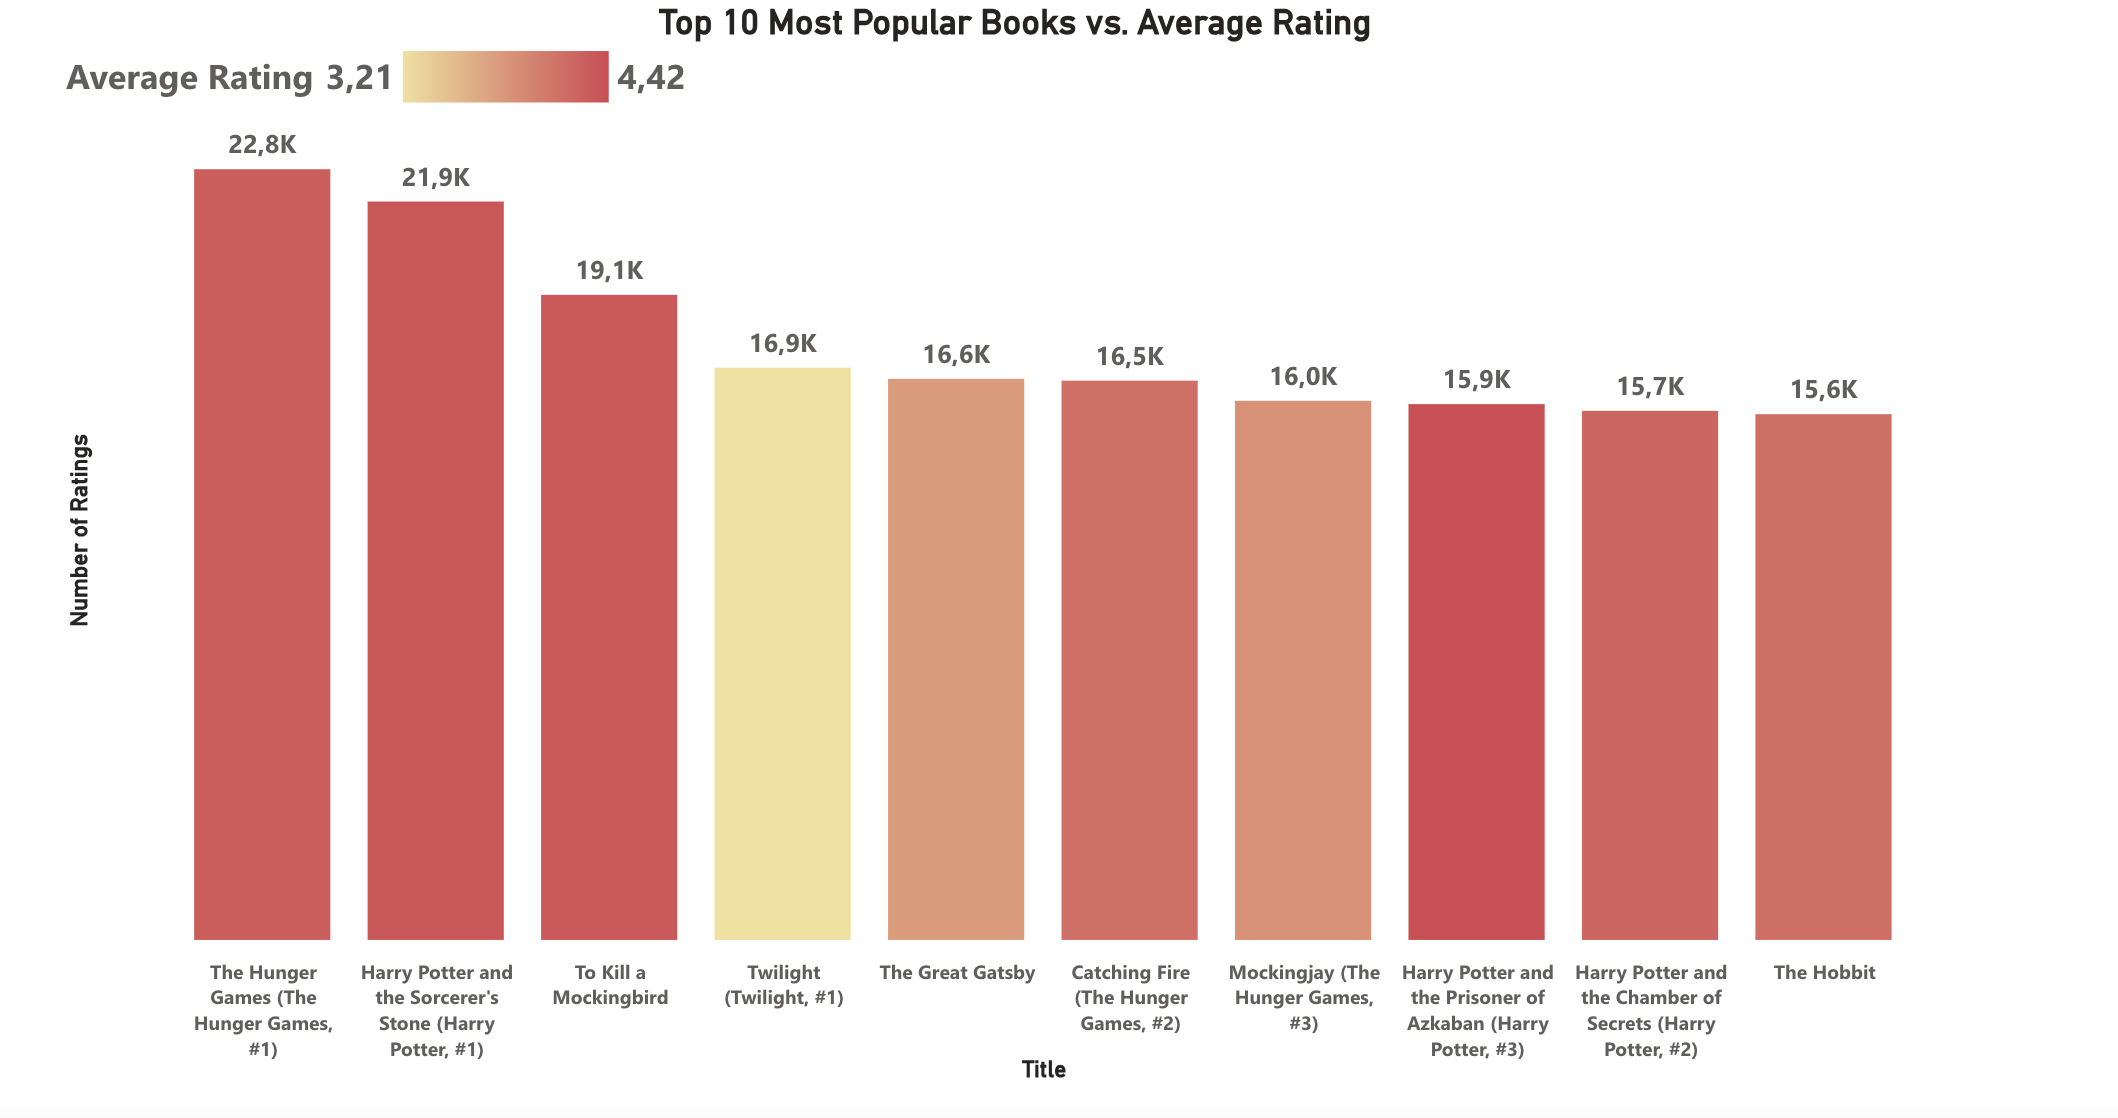

The page's visual inventory and layout, read from the dashboard file:
{"tool":"powerbi","page":{"name":"page 4","canvas":[1280,720],"ordinal":3},"visuals":[{"type":"clusteredColumnChart","title":"Top 10 Most Popular Books vs. Average Rating","fields":{"Category":["public dim_books.title"],"Y":["CountNonNull(public fact_ratings.rating)"]},"box":[42.7,23.7,1189.8,674],"z":0}]}

Visuals, with their boxes on the page's 1280x720 design canvas (x1, y1, x2, y2). These are canvas units, not pixel positions in the 2118x1118 screenshot, which may show the page scaled, cropped or inside an application window:
"Top 10 Most Popular Books vs. Average Rating" clusteredColumnChart: 43:24:1232:698
